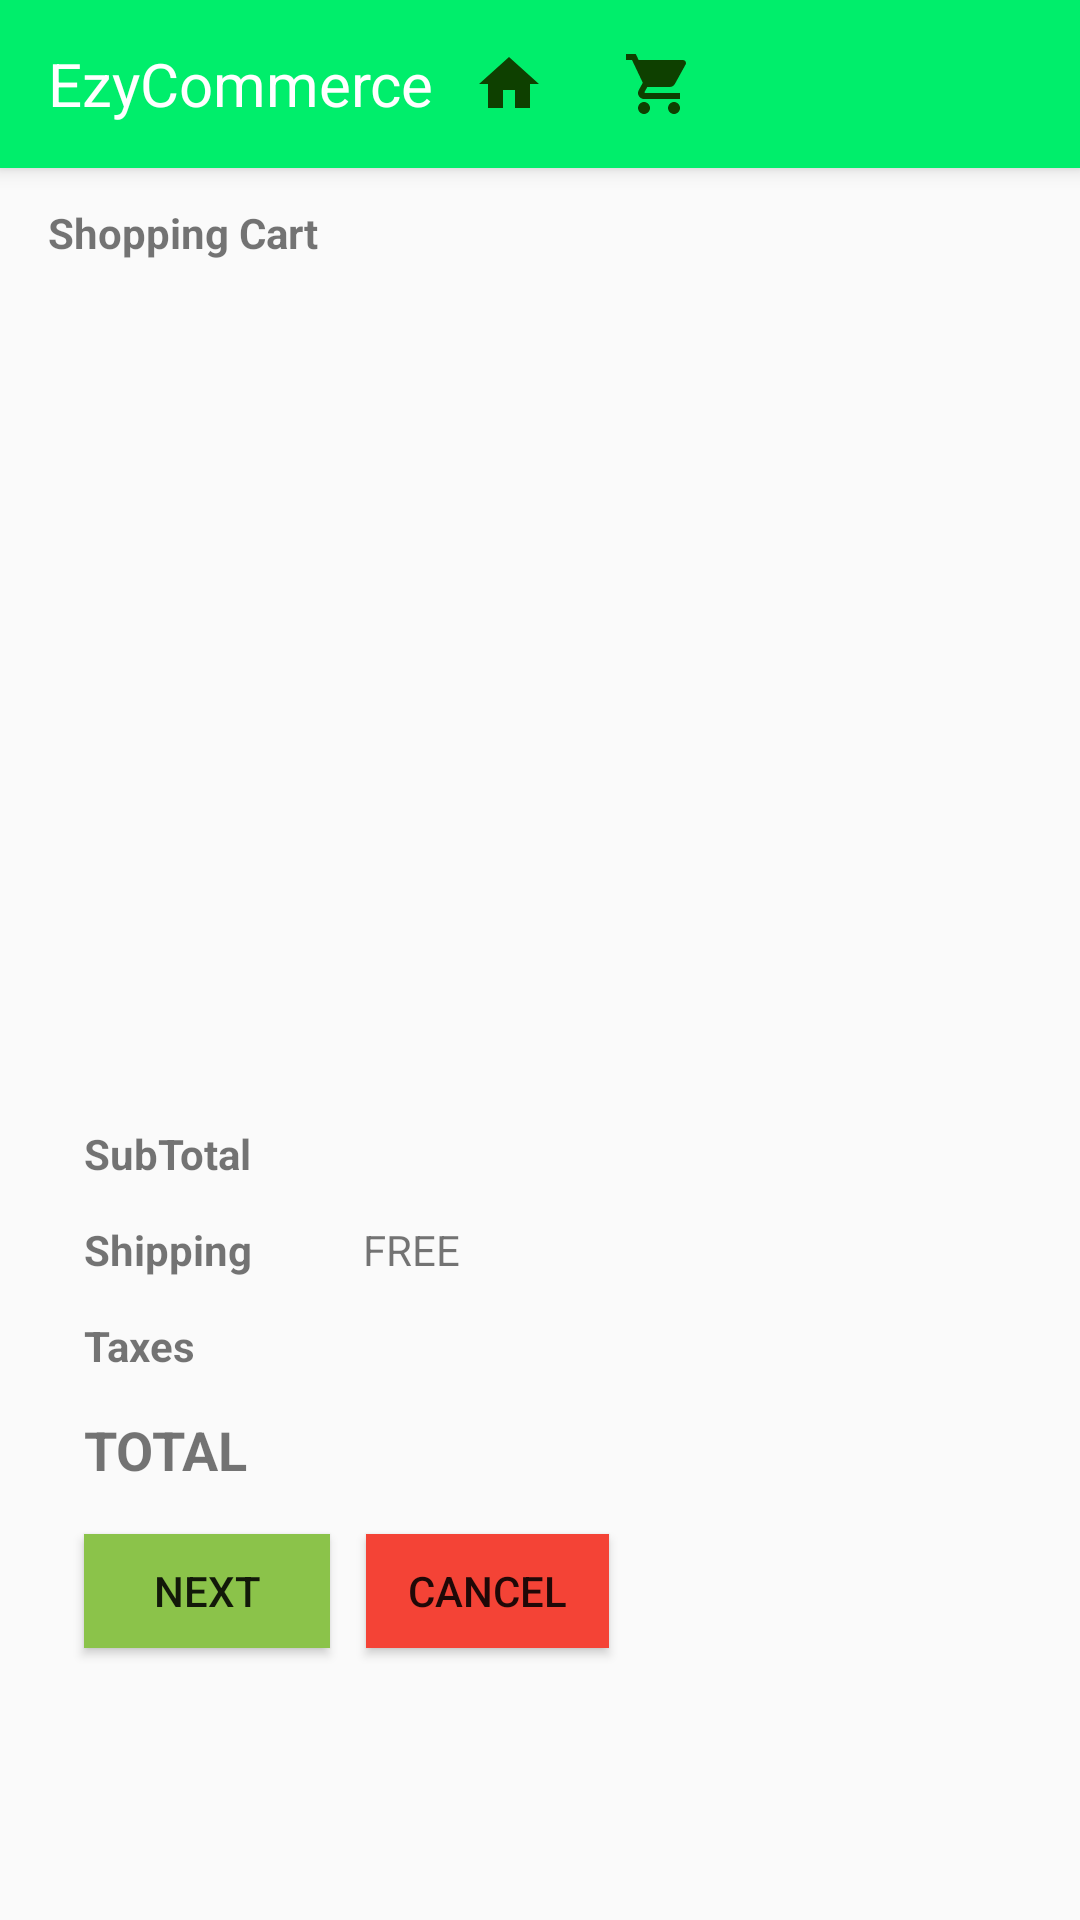

Named icons in this screenshot (1080px×1920px) and their bounding boxes, (x1, y1, x2, y2):
cart: (626, 54, 686, 114)
home: (479, 57, 539, 108)
